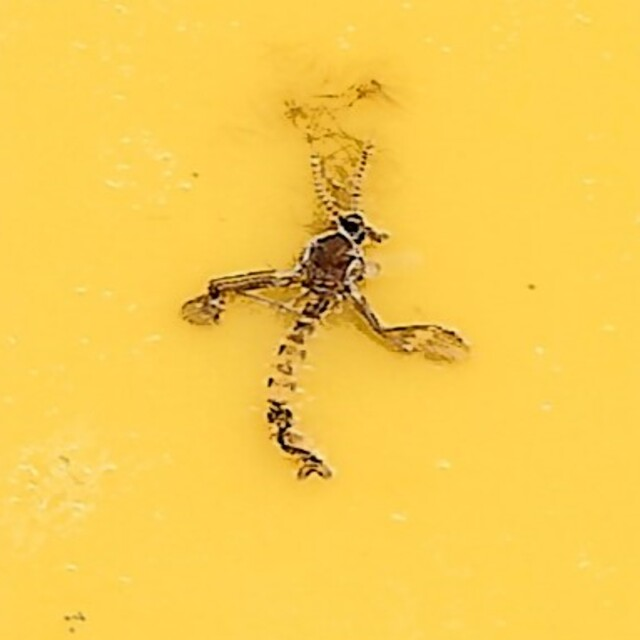Nematocera: (167, 148, 473, 492)
